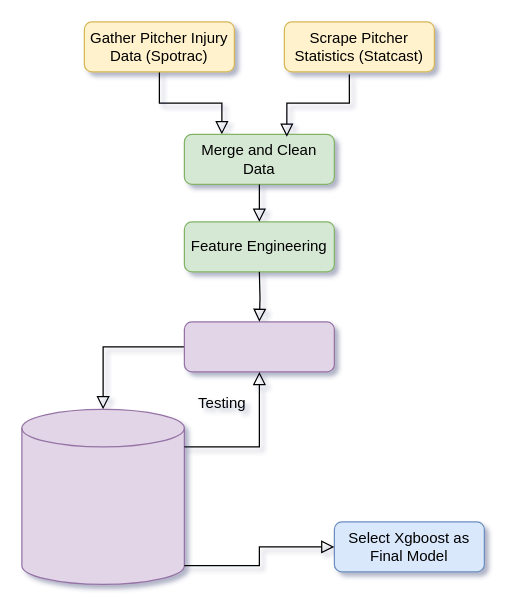
Some shapes in this 514 by 614 pixel diagram are drawn without their labels. Each missing label, with the box of its shape:
Logistic Regression SVM Random Forest Classifier Xgboost: (21, 408, 184, 584)
Train Models with k-fold Cross Validation: (183, 321, 334, 372)
